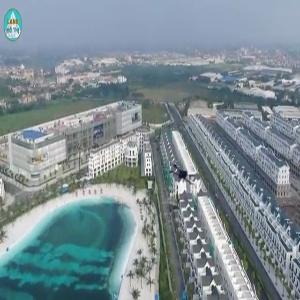drone: (161, 159, 200, 198)
